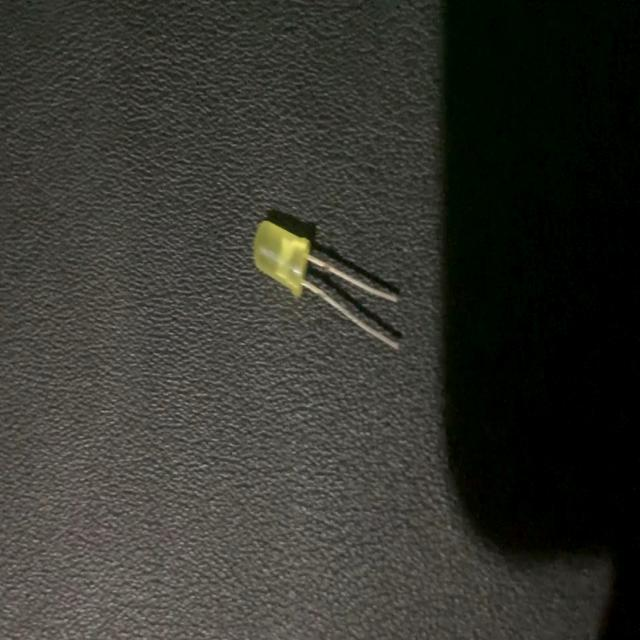LED: (251, 220, 403, 354)
